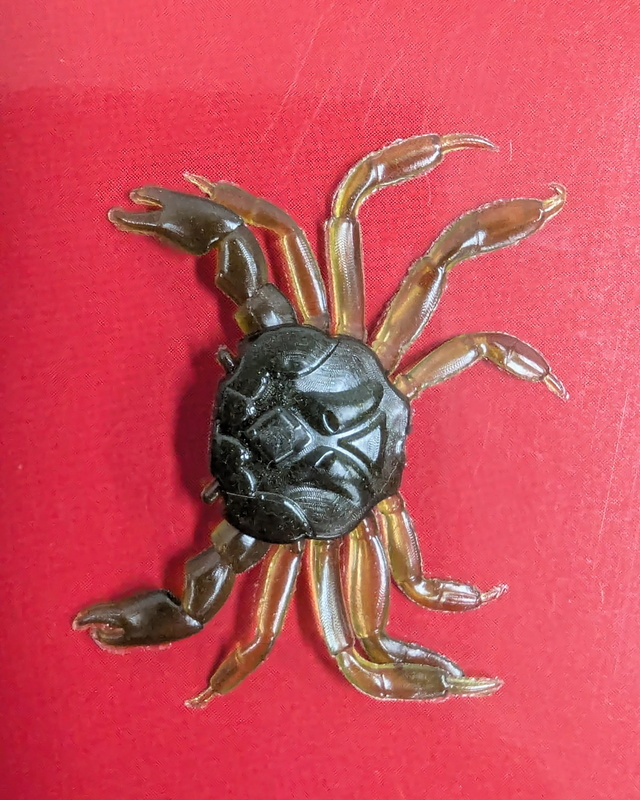crab2: (70, 128, 572, 710)
